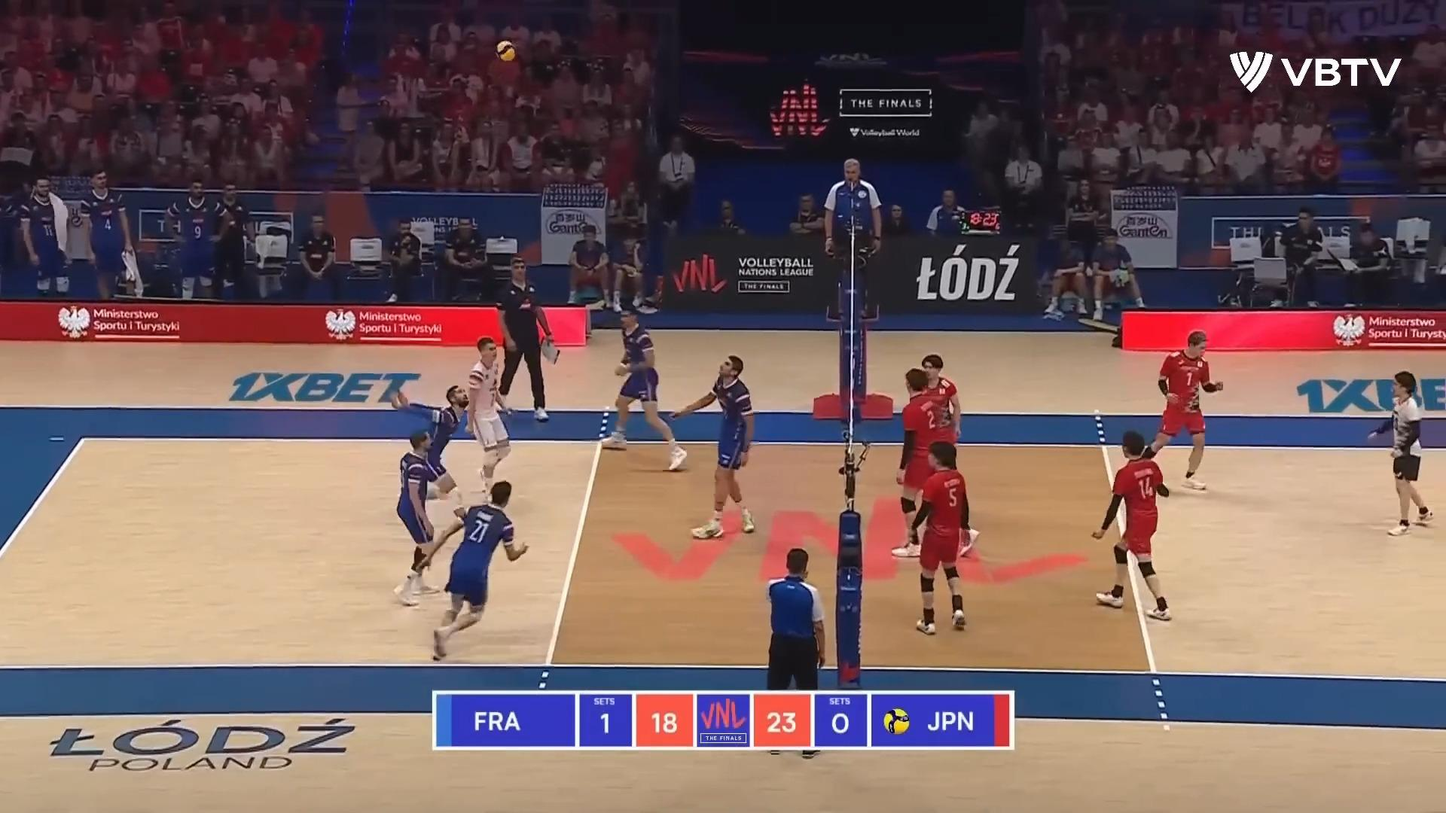ball: (496, 38, 518, 64)
